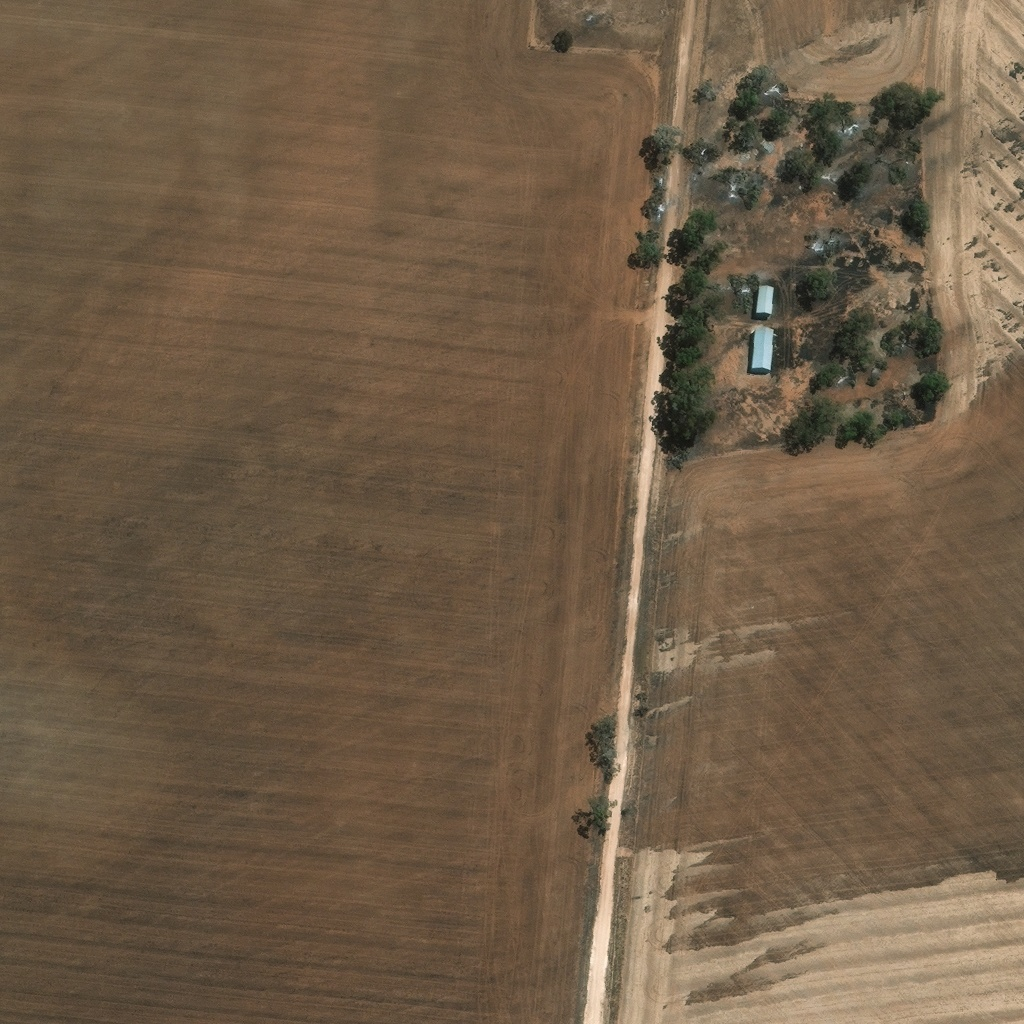0 no-damage: (750, 328, 777, 372), (755, 285, 775, 316)
